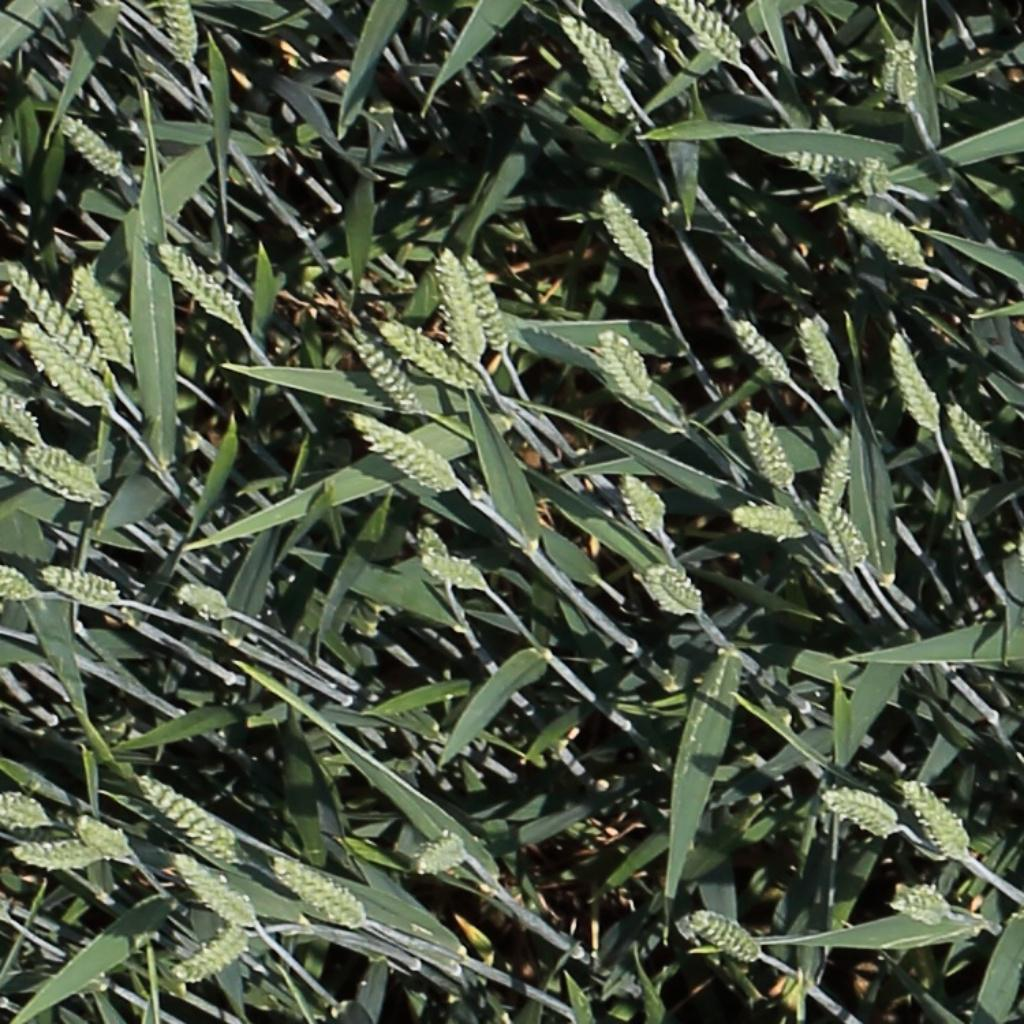0-0: (1, 258, 105, 371), (137, 775, 240, 865), (157, 240, 256, 329), (17, 319, 107, 408), (345, 323, 427, 417), (353, 413, 451, 490), (0, 428, 100, 503), (565, 19, 636, 117), (898, 776, 973, 865), (380, 318, 477, 386), (274, 858, 365, 929), (172, 857, 259, 931), (72, 259, 131, 367), (890, 327, 946, 435), (438, 243, 487, 364), (467, 249, 520, 354), (599, 182, 659, 273), (745, 401, 798, 494), (943, 397, 1006, 475), (671, 0, 745, 66), (561, 10, 629, 77), (730, 315, 795, 383), (849, 204, 925, 262), (58, 111, 124, 176), (598, 326, 649, 406), (797, 311, 846, 394), (790, 151, 897, 189), (177, 927, 249, 983), (690, 910, 764, 962), (820, 430, 857, 532), (617, 465, 669, 537), (823, 501, 871, 577), (407, 519, 459, 589), (26, 444, 104, 488), (826, 793, 901, 834), (645, 566, 705, 617), (887, 876, 947, 927), (38, 567, 120, 604), (881, 35, 921, 108), (730, 501, 811, 537), (0, 378, 42, 447), (419, 551, 490, 591), (415, 829, 474, 875), (165, 0, 199, 72), (75, 819, 131, 860), (174, 587, 232, 618), (9, 847, 102, 865), (0, 794, 49, 827), (0, 565, 36, 599)
